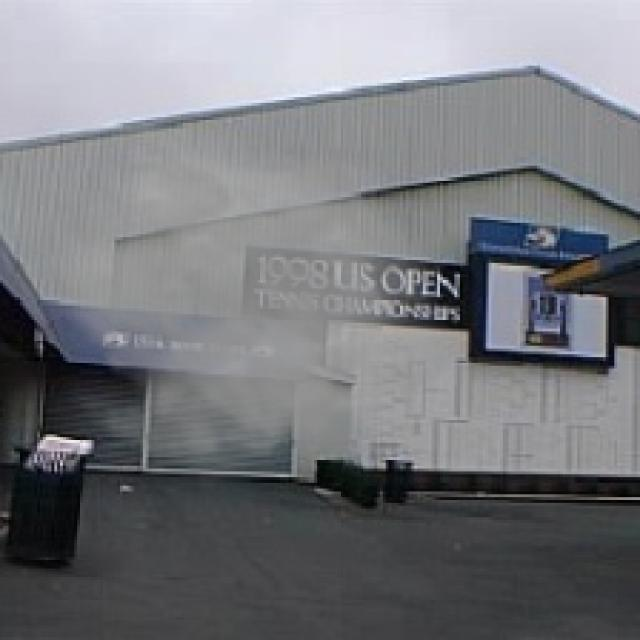smoke: (37, 129, 463, 497)
